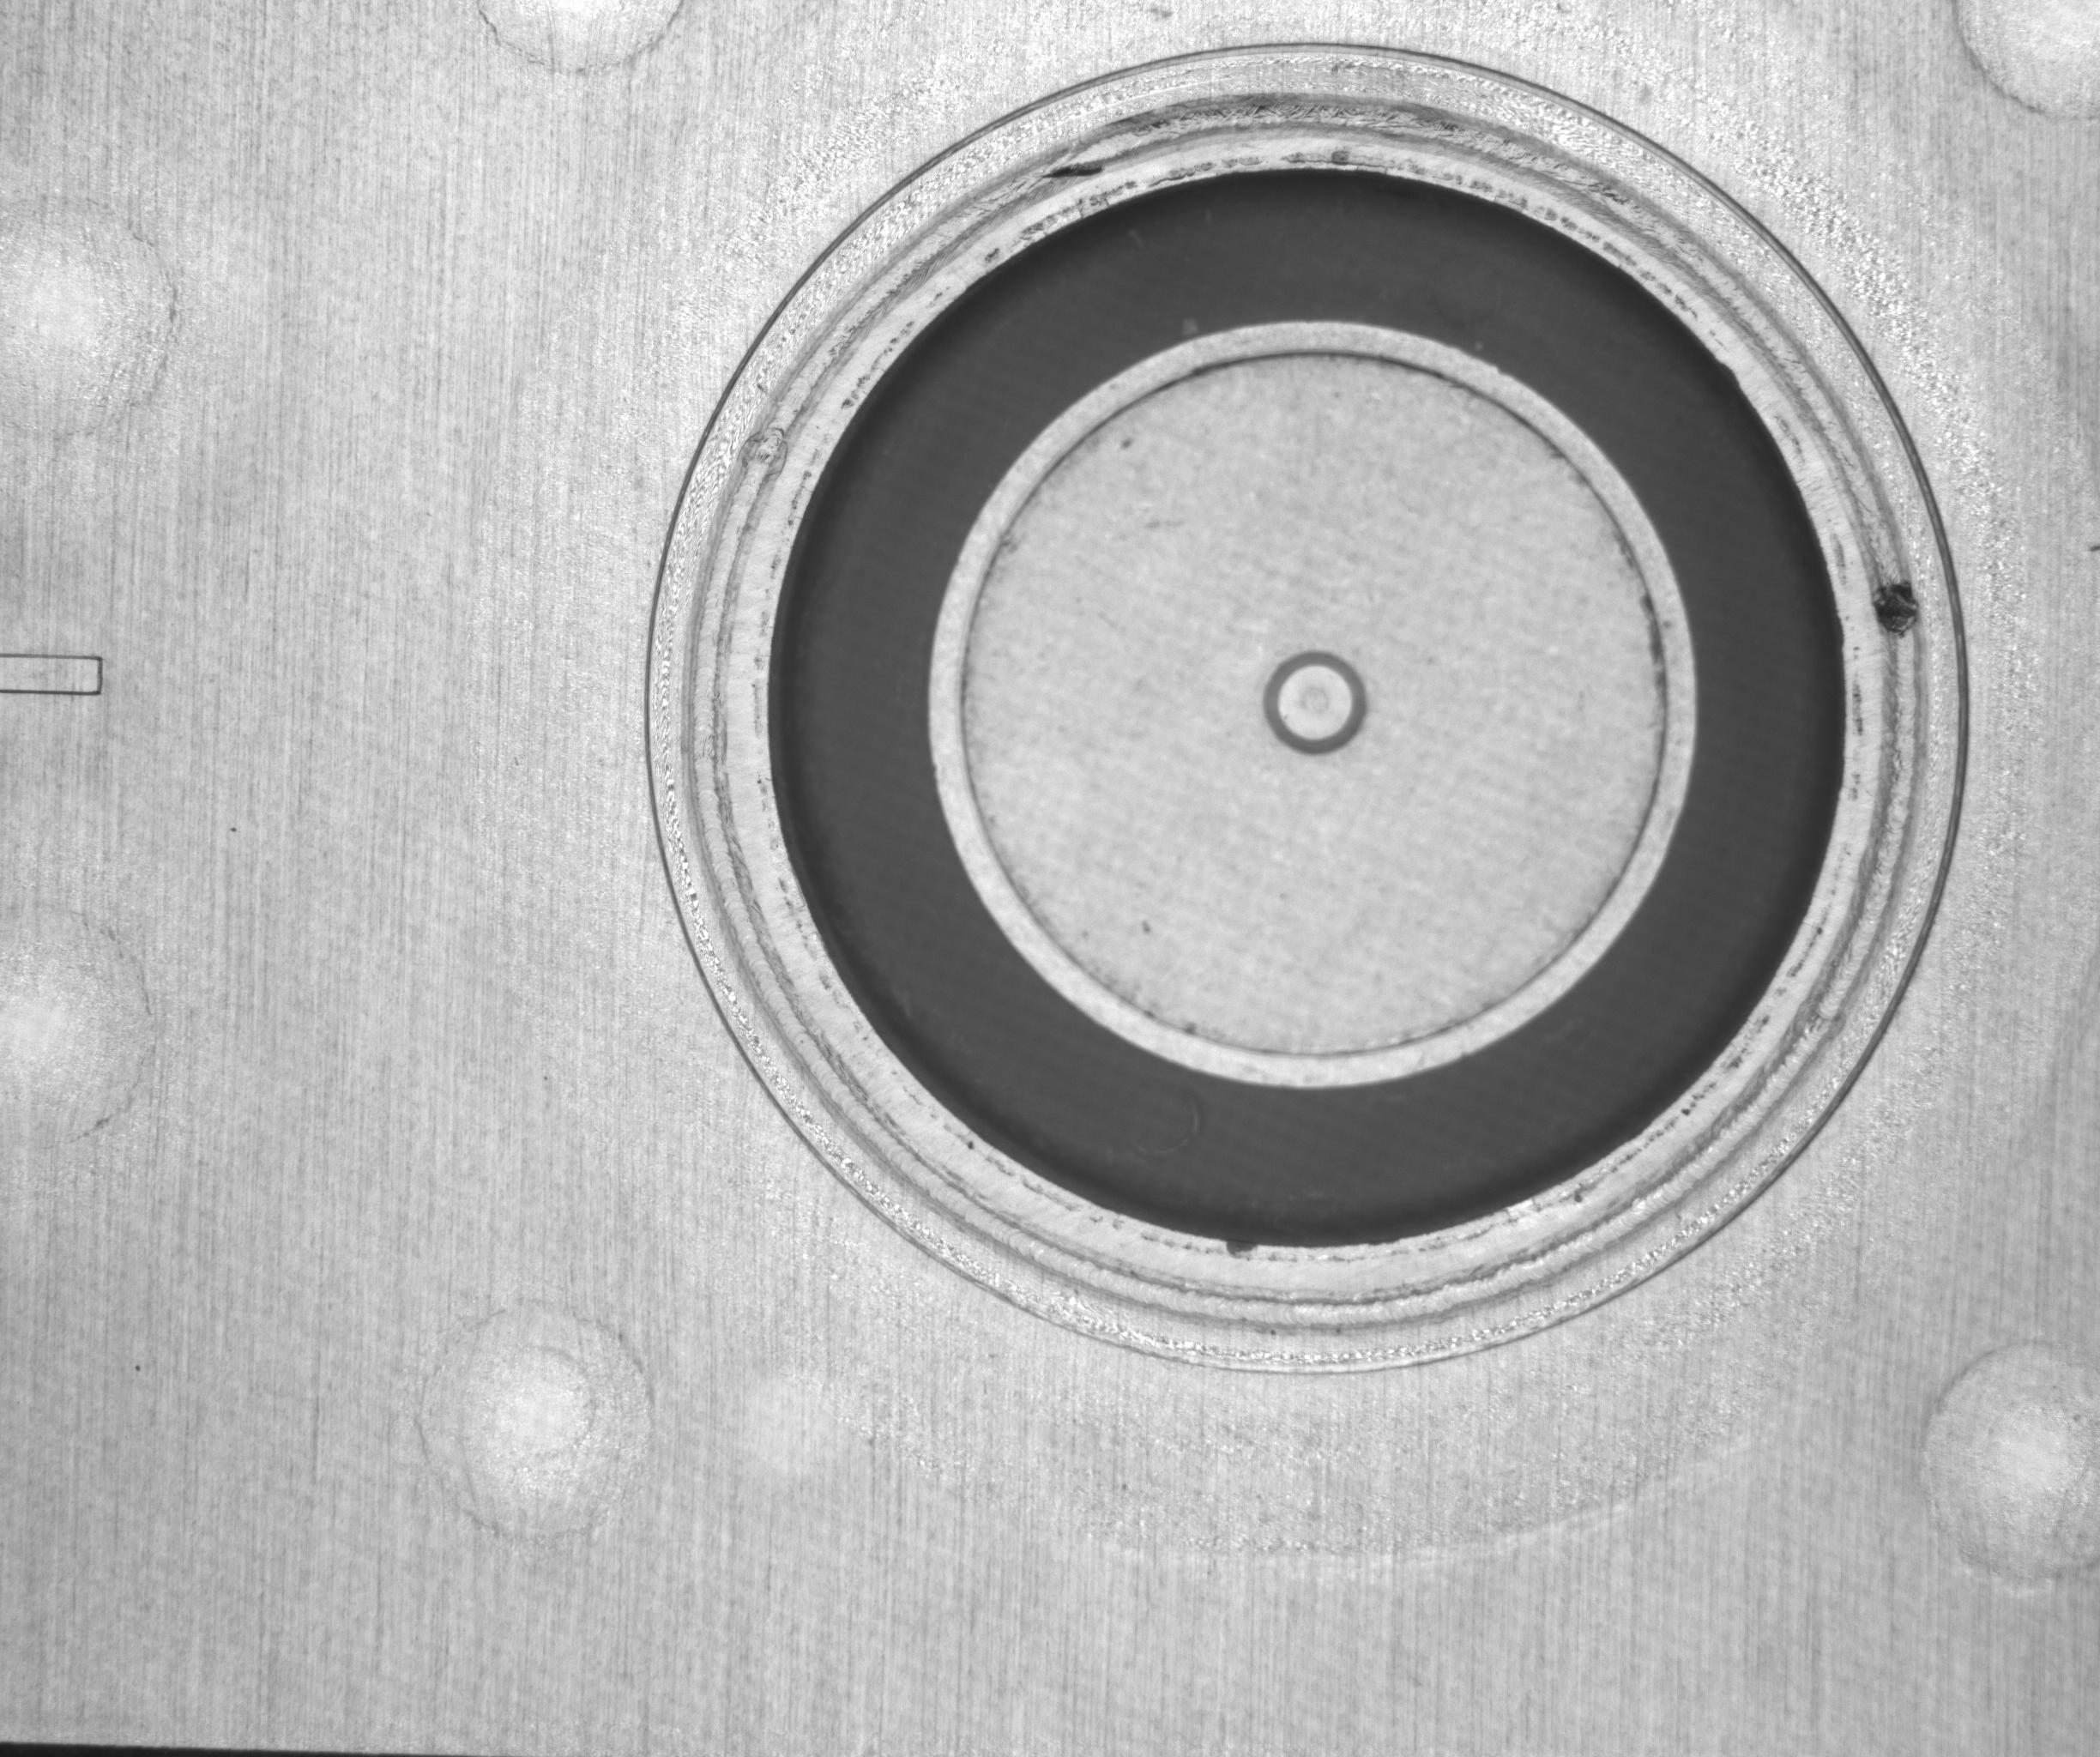weldinghole: (1790, 522, 1992, 689)
